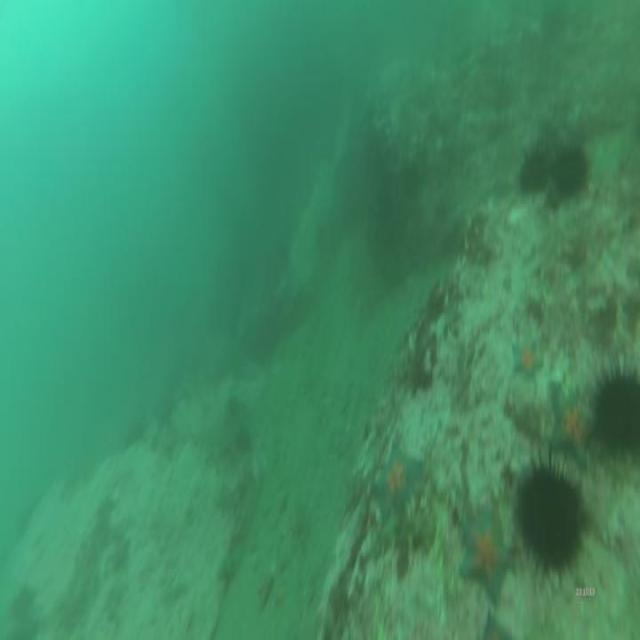echinus: (509, 441, 591, 591), (583, 358, 640, 468), (549, 136, 592, 202), (514, 134, 557, 198)
starfish: (457, 509, 515, 608), (369, 442, 427, 530), (550, 381, 596, 457), (506, 333, 546, 384)
